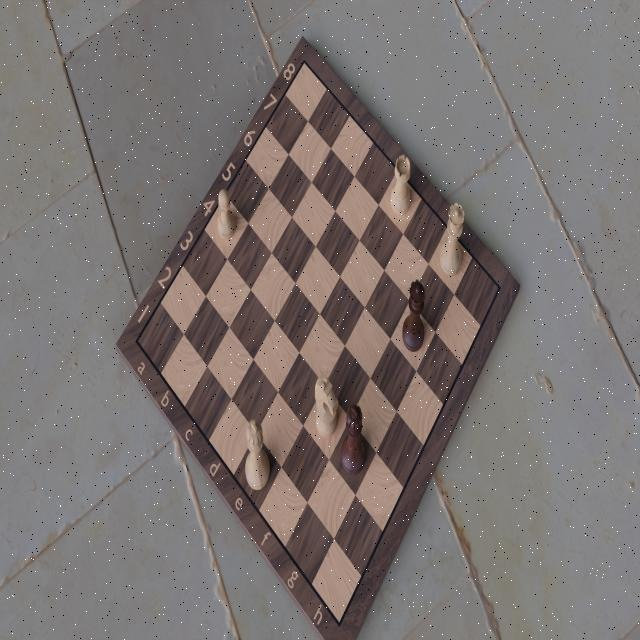black-king: (338, 399, 369, 474)
black-queen: (401, 278, 427, 353)
white-king: (242, 416, 272, 492)
white-knight: (312, 371, 340, 439)
white-pawn: (217, 187, 237, 239)
white-queen: (439, 203, 465, 281)
white-rook: (387, 152, 412, 215)
